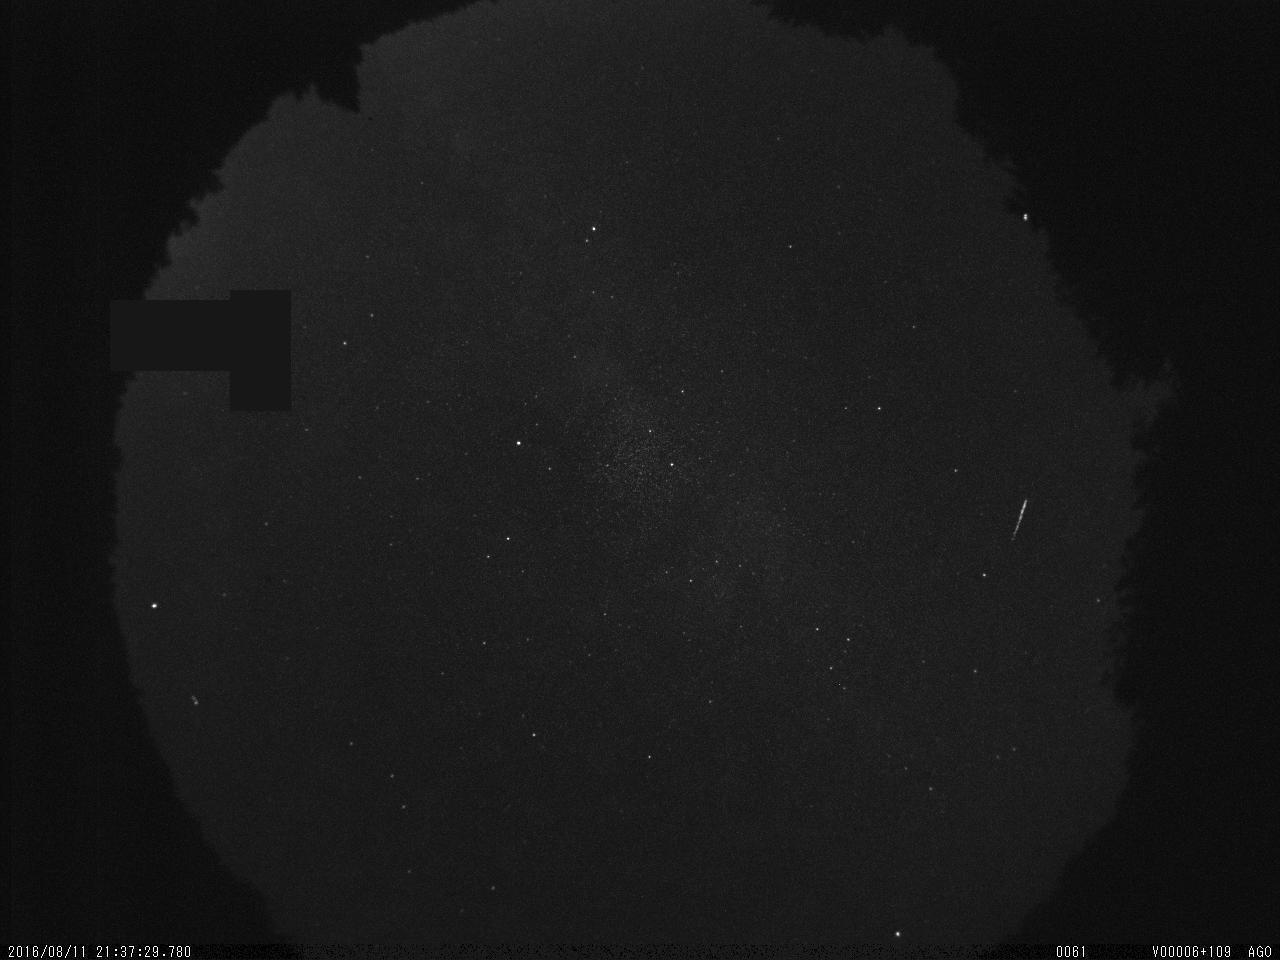Meteor: (1008, 496, 1028, 541)
